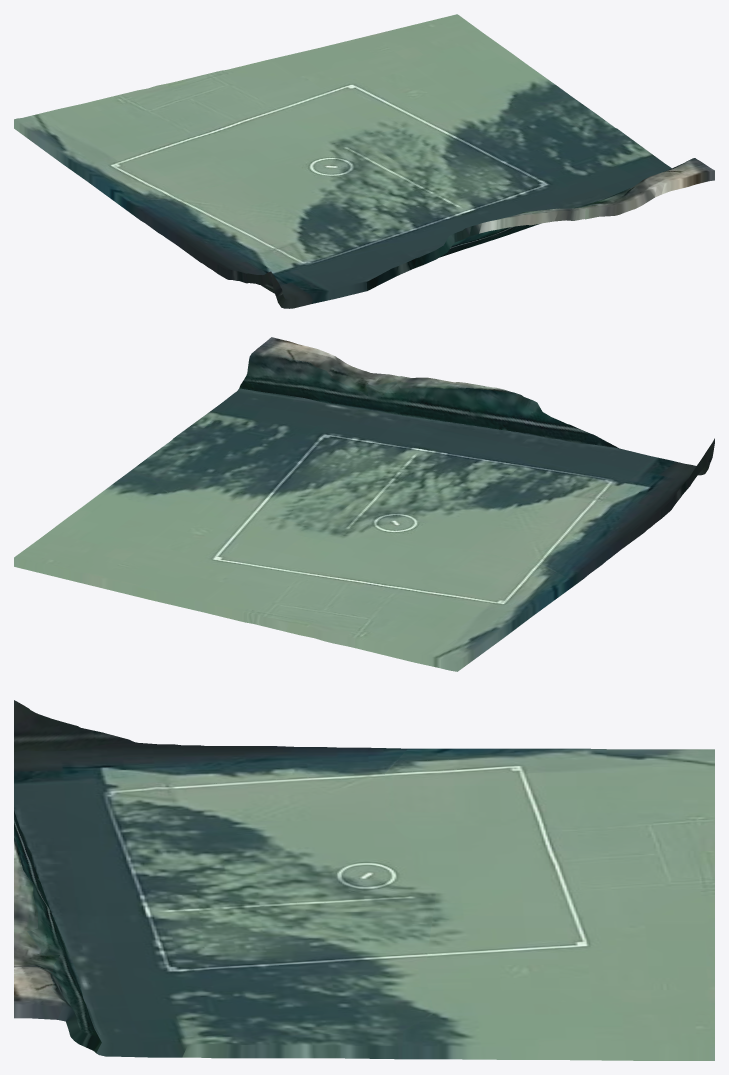
File: z20-167738-405195-h0-yup-uvflip-v3-world.glb
3 renders of one model, top to bottom at view 1: azimuth 30°, elevation 25°; view 2: azimuth 150°, elevation 25°; view 3: azimuth 270°, elevation 25°, orthographic. The views are drawn at different scales.
Size of the model in its own units: 30.16 by 3.16 by 30.32.
Materials: 1 (1 with a texture image).
